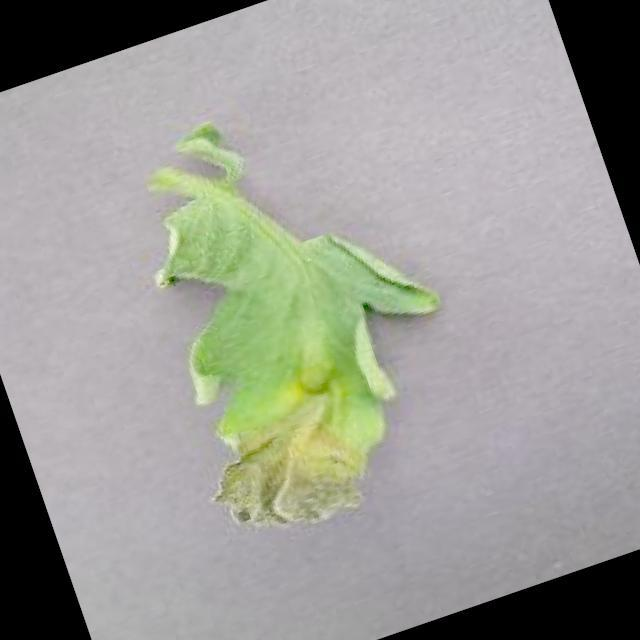Tomato late blight leaf: (120, 126, 496, 556)
